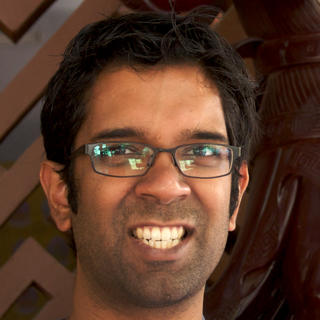eye: (93, 140, 140, 163), (182, 141, 222, 167)
